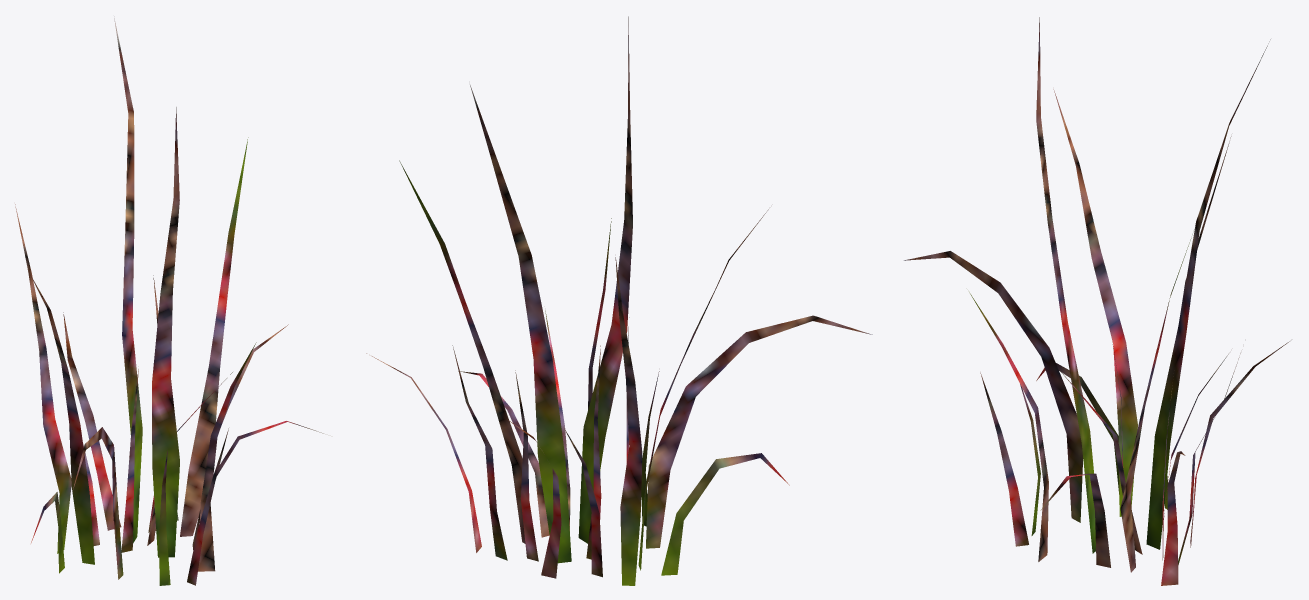
The model's file is Grass9.fbx.
3 renders of one model, left to right at view 1: azimuth 30°, elevation 25°; view 2: azimuth 150°, elevation 25°; view 3: azimuth 270°, elevation 25°, orthographic. The views are drawn at different scales.
Visible parts, largest first — view 1: Grass9; view 2: Grass9; view 3: Grass9.
Part boxes in pixels (<box>): Grass9: <box>15,16,323,585</box>; Grass9: <box>366,16,872,585</box>; Grass9: <box>904,17,1289,585</box>.
Bounding box in the file's own units: 268 × 354 × 236.
